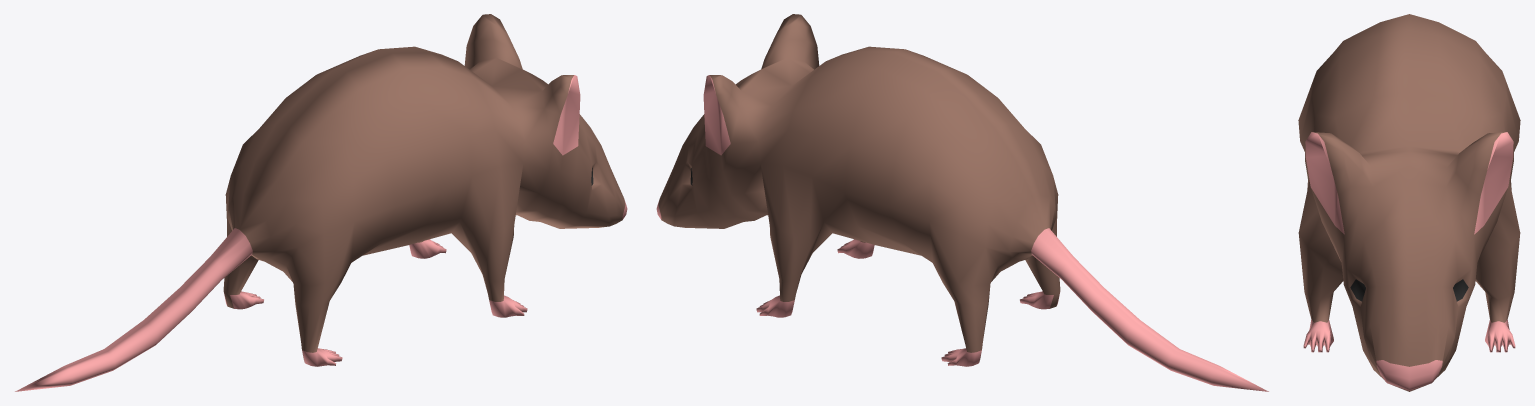
The model's file is krysa_kreslena_3.glb.
The picture shows the model from 3 angles, left to right: view 1: azimuth 30°, elevation 25°; view 2: azimuth 150°, elevation 25°; view 3: azimuth 270°, elevation 25°; orthographic projection. The views are drawn at different scales.
Parts seen in each view (by area): view 1: Rat3_LPollyPallete_0; view 2: Rat3_LPollyPallete_0; view 3: Rat3_LPollyPallete_0.
Part boxes in pixels (x1,y1,x2,y2): Rat3_LPollyPallete_0: [15, 14, 627, 391]; Rat3_LPollyPallete_0: [656, 14, 1268, 391]; Rat3_LPollyPallete_0: [1298, 14, 1520, 391].
Bounding box in the file's own units: 1.2 × 0.4806 × 0.3465.
1 material, 1 textured.
